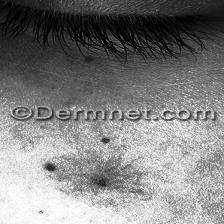Benign Marking or Mole: (43, 154, 152, 207)
